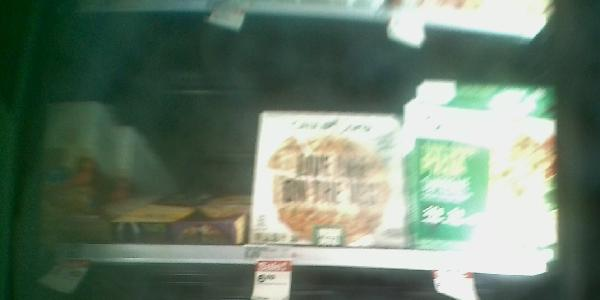pizza: (404, 104, 558, 251)
pizza1: (417, 78, 560, 111), (116, 210, 249, 243)
